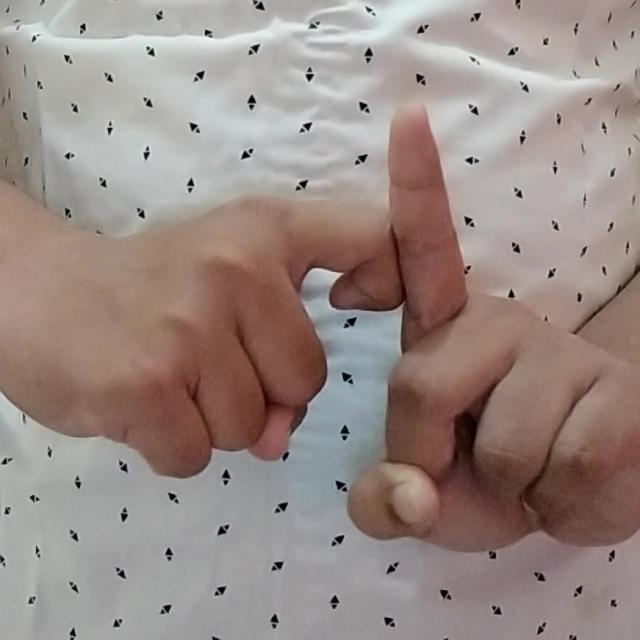K: (67, 93, 614, 557)
